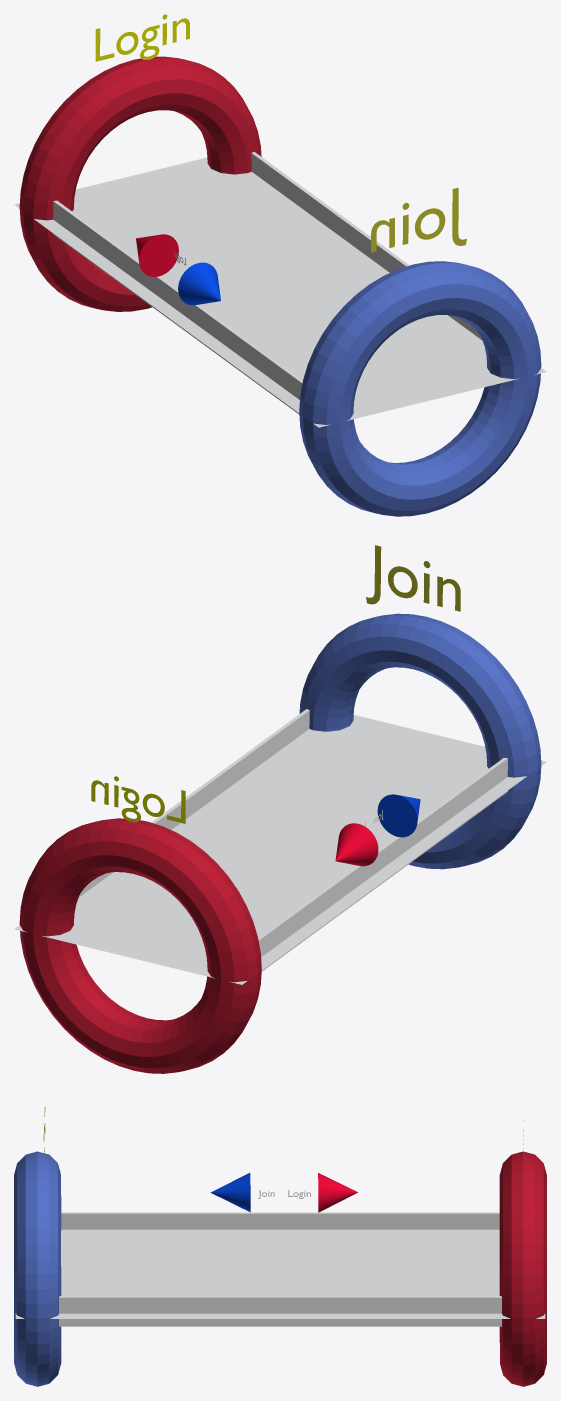
Rendered from place2.glb.
The picture shows the model from 3 angles, top to bottom: view 1: azimuth 30°, elevation 25°; view 2: azimuth 150°, elevation 25°; view 3: azimuth 270°, elevation 25°; orthographic projection. The views are drawn at different scales.
Visible parts, largest first — view 1: Plane, Torus, Torus.001, Cube.001, Cube, Text.002, Cone, Cone.001, Text; view 2: Plane, Torus.001, Torus, Cube.001, Cube, Text.002, Cone.001, Cone, Text; view 3: Plane, Cube, Torus.001, Torus, Cube.001, Cone, Cone.001.
Boxes of the visible parts, bbox=[...] form: Plane: bbox=[14, 157, 546, 427]; Torus: bbox=[299, 261, 541, 516]; Torus.001: bbox=[19, 56, 261, 311]; Cube.001: bbox=[53, 200, 302, 414]; Cube: bbox=[251, 151, 482, 340]; Text.002: bbox=[371, 187, 466, 252]; Cone: bbox=[178, 262, 220, 305]; Cone.001: bbox=[136, 234, 178, 276]; Text: bbox=[95, 14, 189, 61]; Plane: bbox=[14, 715, 546, 984]; Torus.001: bbox=[19, 818, 261, 1073]; Torus: bbox=[299, 613, 541, 869]; Cube.001: bbox=[258, 758, 507, 971]; Cube: bbox=[78, 709, 309, 897]; Text.002: bbox=[366, 545, 460, 611]; Cone.001: bbox=[335, 823, 378, 866]; Cone: bbox=[377, 794, 420, 837]; Text: bbox=[91, 776, 185, 823]; Plane: bbox=[15, 1229, 545, 1318]; Cube: bbox=[59, 1296, 502, 1326]; Torus.001: bbox=[499, 1151, 546, 1386]; Torus: bbox=[14, 1151, 61, 1386]; Cube.001: bbox=[61, 1212, 499, 1229]; Cone: bbox=[210, 1173, 250, 1212]; Cone.001: bbox=[318, 1173, 357, 1212].
Size of the model in its own units: 53.12 by 66.68 by 119.
